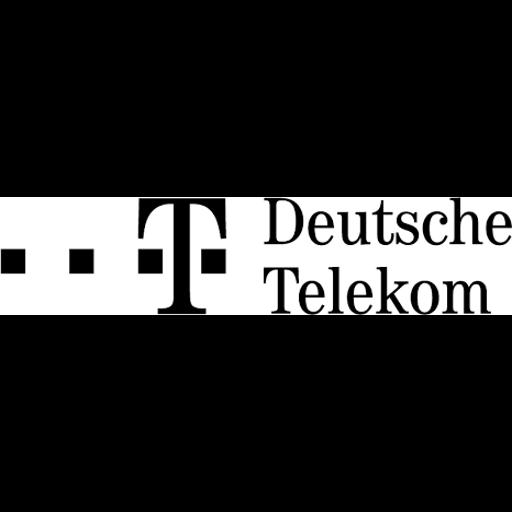Deutsche Telekom: (0, 197, 512, 315)
